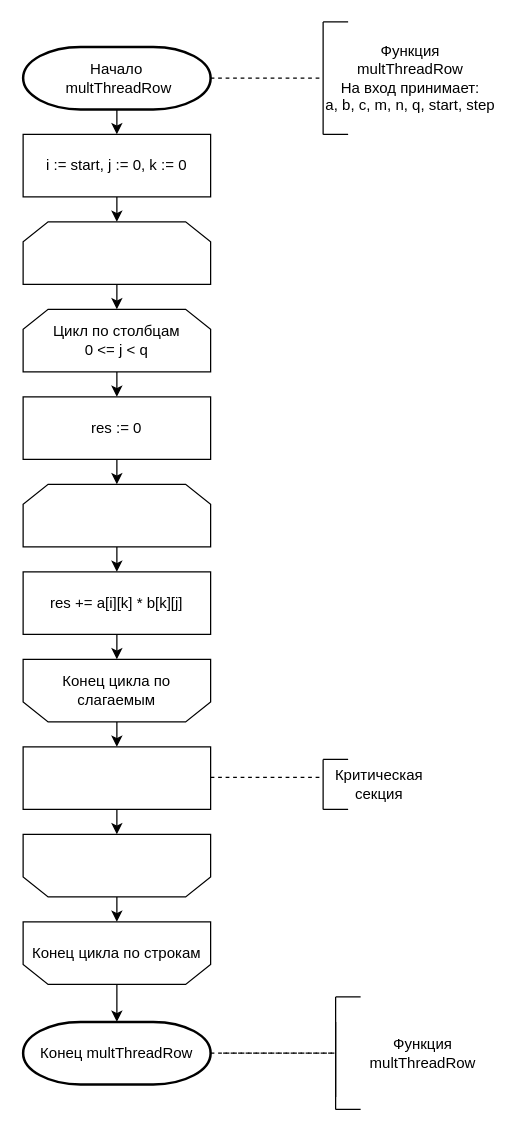
This 531x1133 diagram has some shape labels left out. Each missing label, with the centre of its shape:
c[i][j] := res: (116,777)
Конец цикла по столбцам: (116,865)
Цикл по слагаемым 0 <= k < n: (116,515)
Цикл по строкам start <= i < m, шаг step: (116,252)
